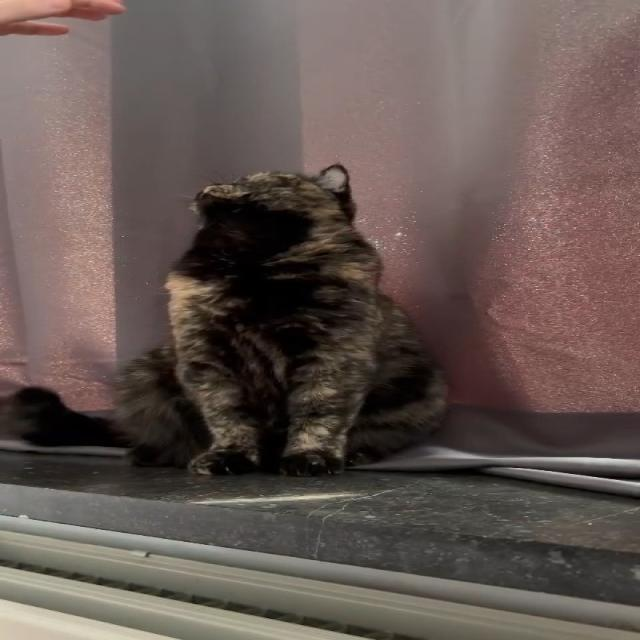authorized: (110, 162, 450, 477)
